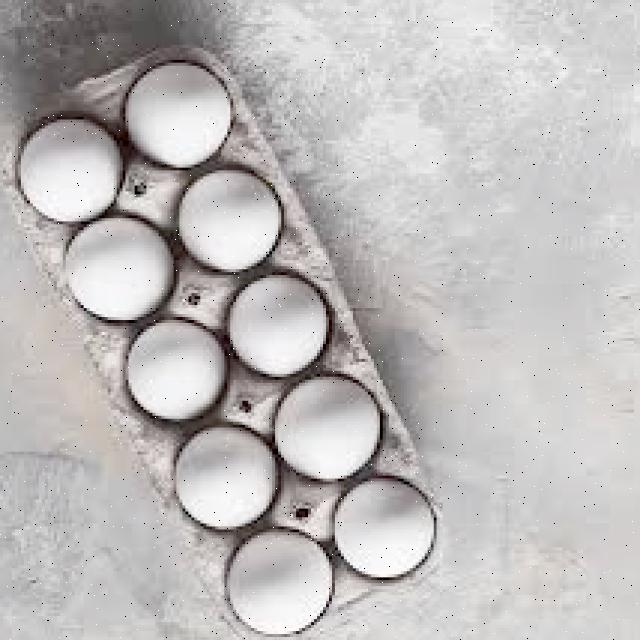White Egg: (216, 270, 349, 392), (170, 430, 306, 546), (62, 217, 189, 330), (13, 120, 132, 237), (268, 384, 399, 484), (121, 334, 235, 445), (130, 58, 234, 178), (178, 174, 289, 282), (218, 526, 322, 634), (331, 482, 430, 580)
